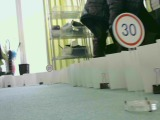speed_30: (112, 12, 144, 47)
